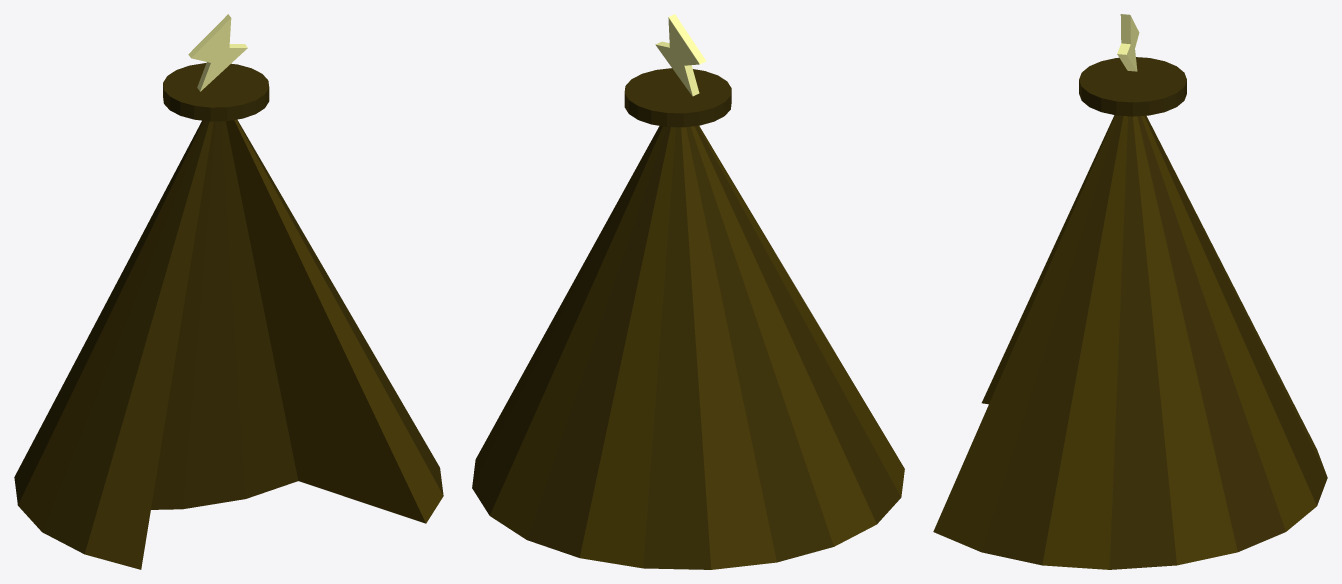
Rendered from hut_V1.fbx.
3 views of the same model, side by side, from view 1: azimuth 30°, elevation 25°; view 2: azimuth 150°, elevation 25°; view 3: azimuth 270°, elevation 25° (orthographic).
Visible parts, largest first — view 1: Hut_v1; view 2: Hut_v1; view 3: Hut_v1.
Boxes of the visible parts, bbox=[...] form: Hut_v1: bbox=[14, 14, 443, 569]; Hut_v1: bbox=[472, 14, 904, 569]; Hut_v1: bbox=[933, 14, 1327, 569].
Size of the model in its own units: 705 by 834 by 638.
